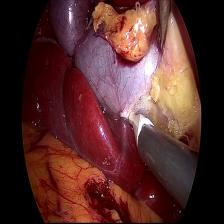Grasper: (154, 0, 174, 58)
Hook: (118, 105, 154, 151)
